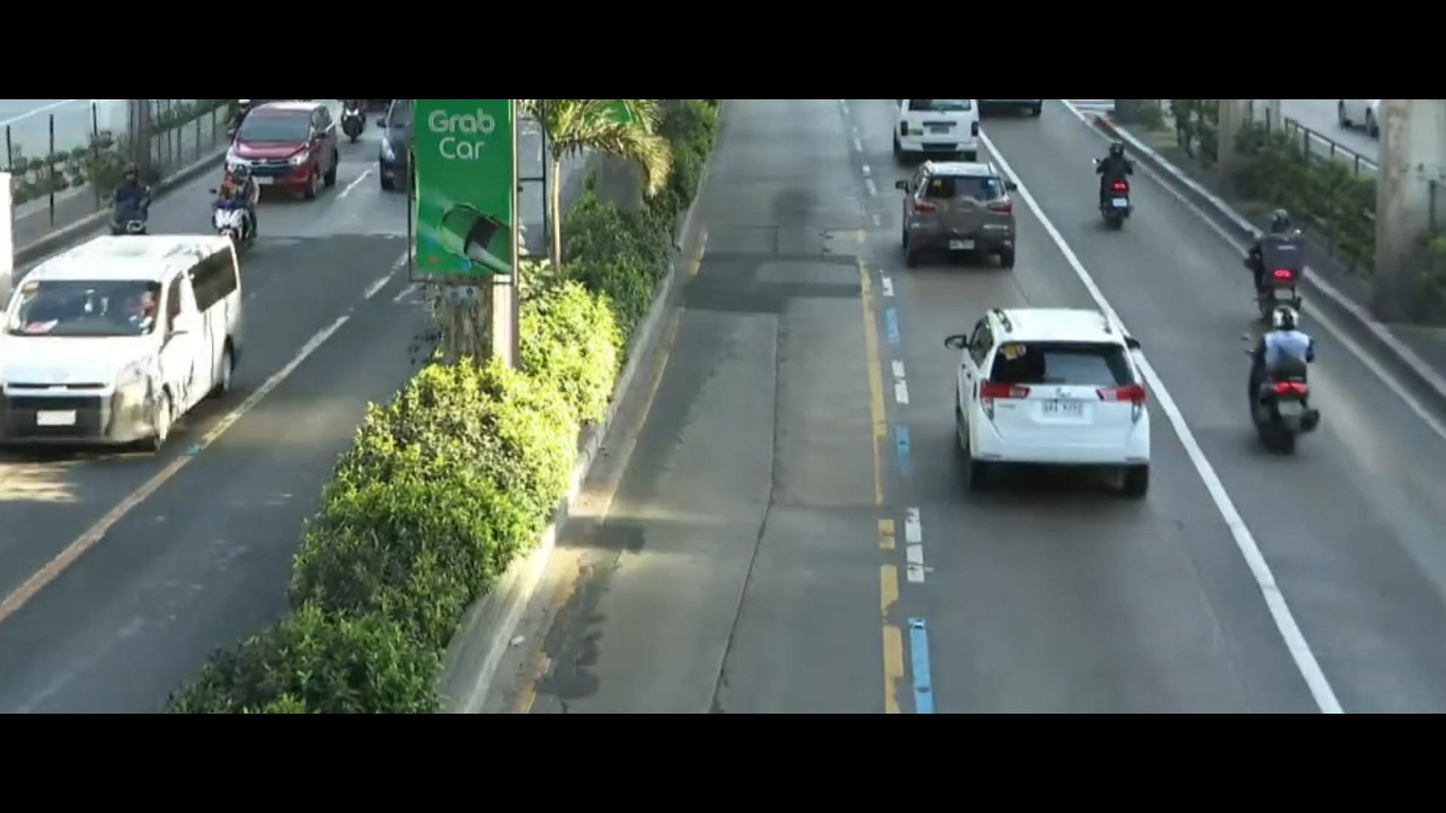Motorcycle: (1227, 292, 1343, 474), (1239, 200, 1331, 326), (1080, 134, 1158, 253), (102, 157, 174, 241), (208, 151, 258, 248)
SUV: (921, 281, 1169, 522), (889, 151, 1032, 292), (217, 98, 351, 197)
Van: (0, 224, 253, 490), (883, 101, 998, 164)
